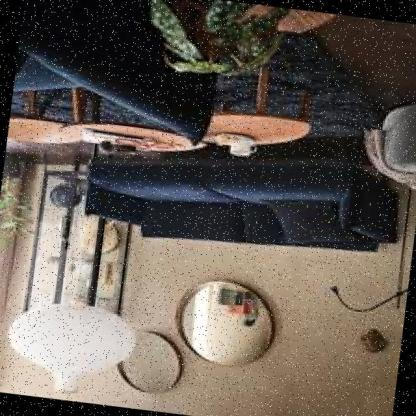Sofa: (38, 124, 410, 264), (8, 0, 250, 154)
